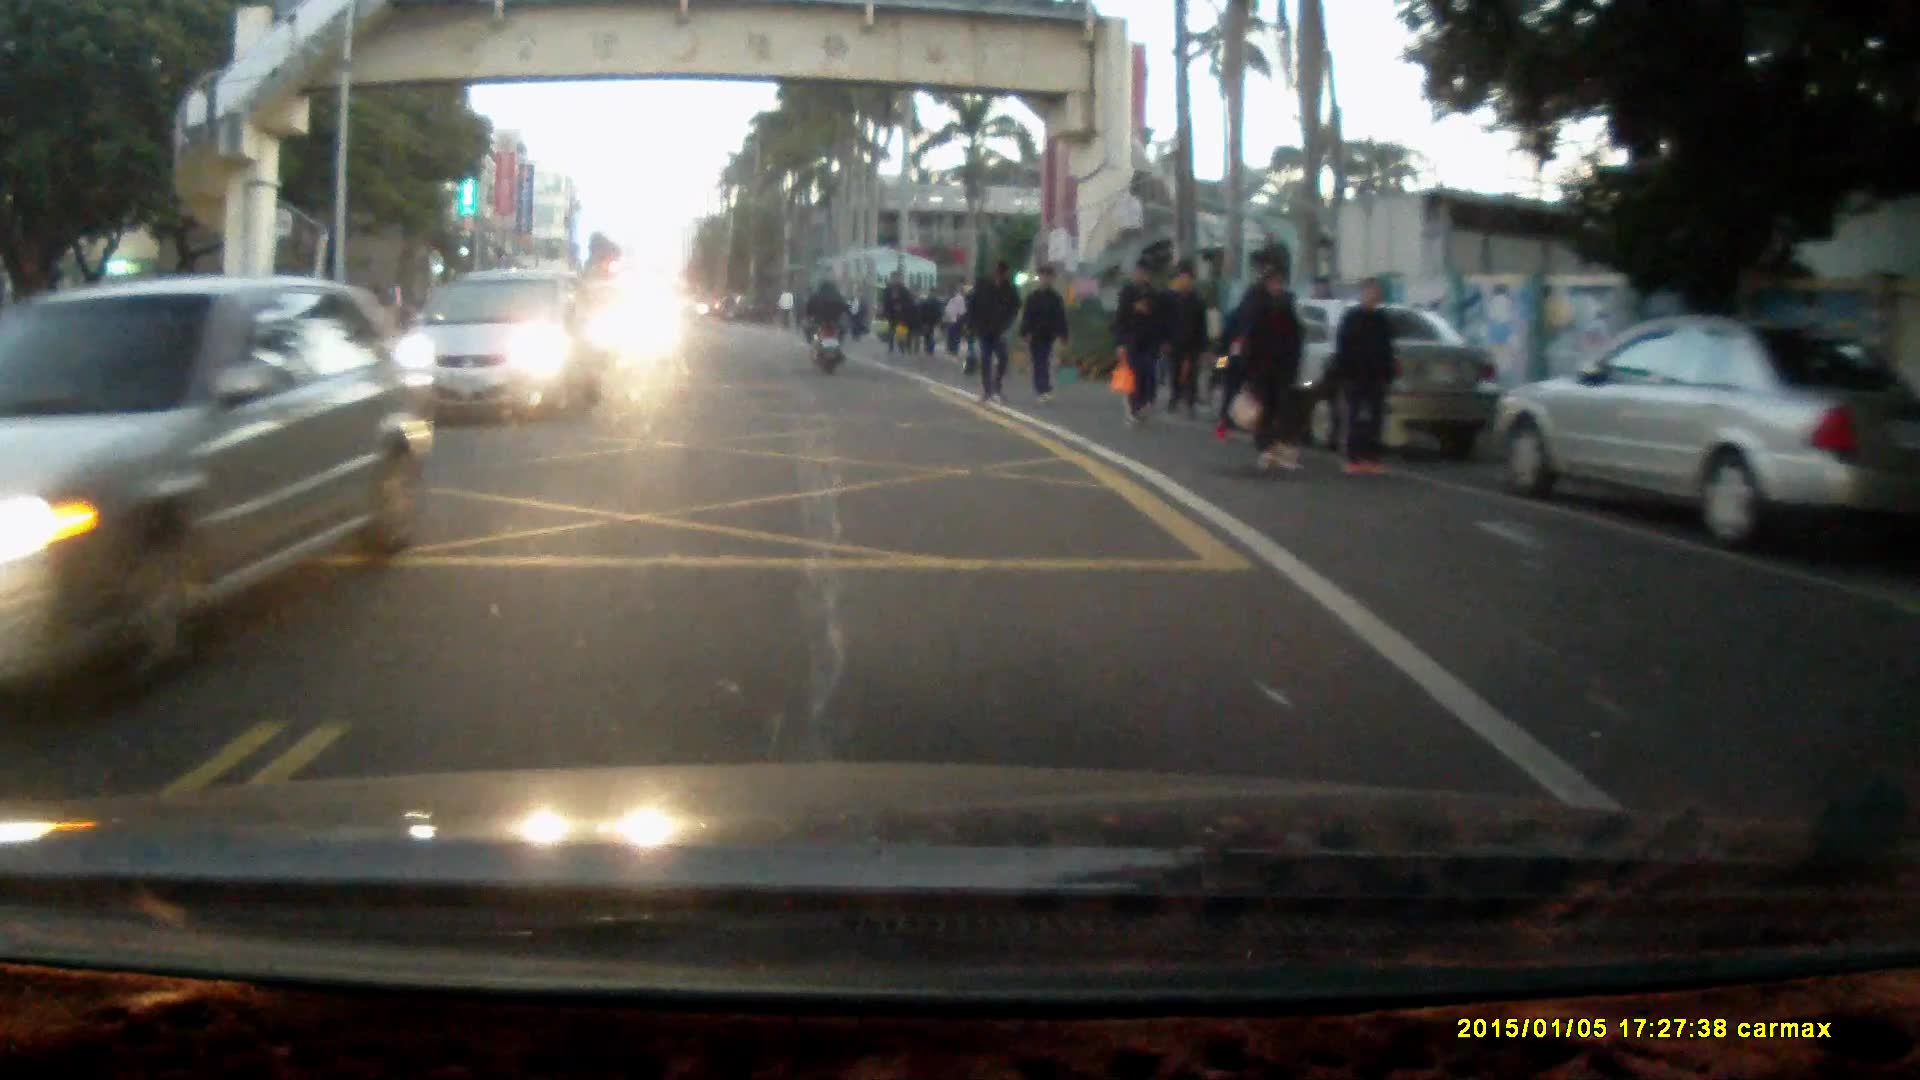pedestrian: (1326, 273, 1402, 478), (1241, 267, 1308, 476), (1112, 256, 1168, 425), (973, 268, 1027, 410), (1171, 260, 1217, 422), (1020, 264, 1071, 400), (877, 270, 908, 359), (940, 284, 969, 366), (899, 280, 931, 353)
rider: (804, 277, 850, 378)
vehicle: (1, 271, 439, 696), (1490, 320, 1920, 554), (1209, 299, 1503, 452), (384, 268, 609, 427)
